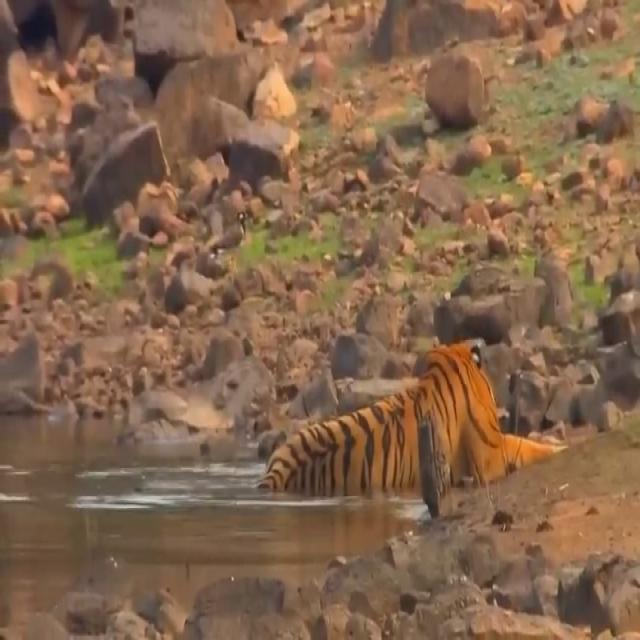tiger: (256, 343, 569, 495)
